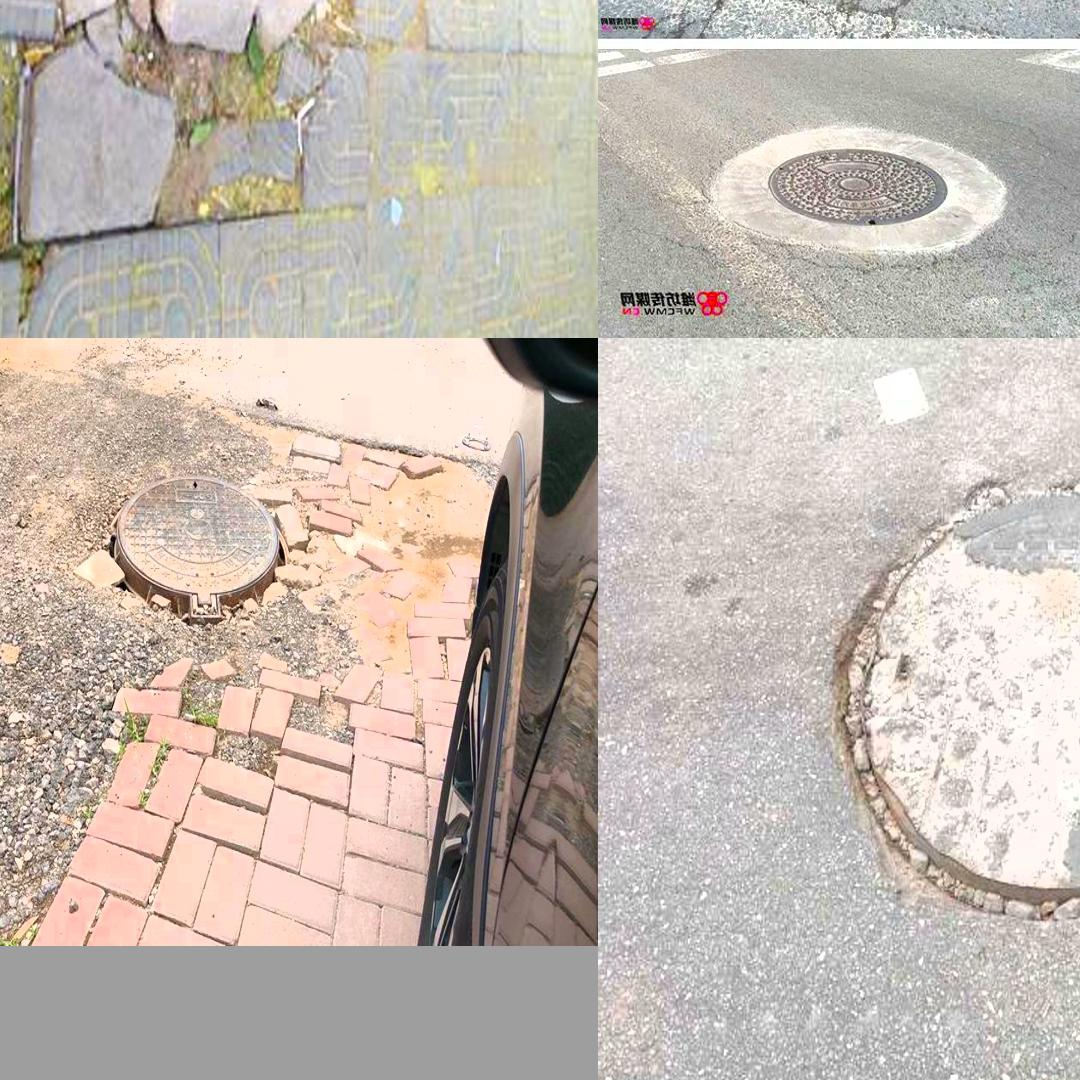circle: (812, 453, 1080, 930), (15, 0, 371, 252), (59, 432, 347, 674)
